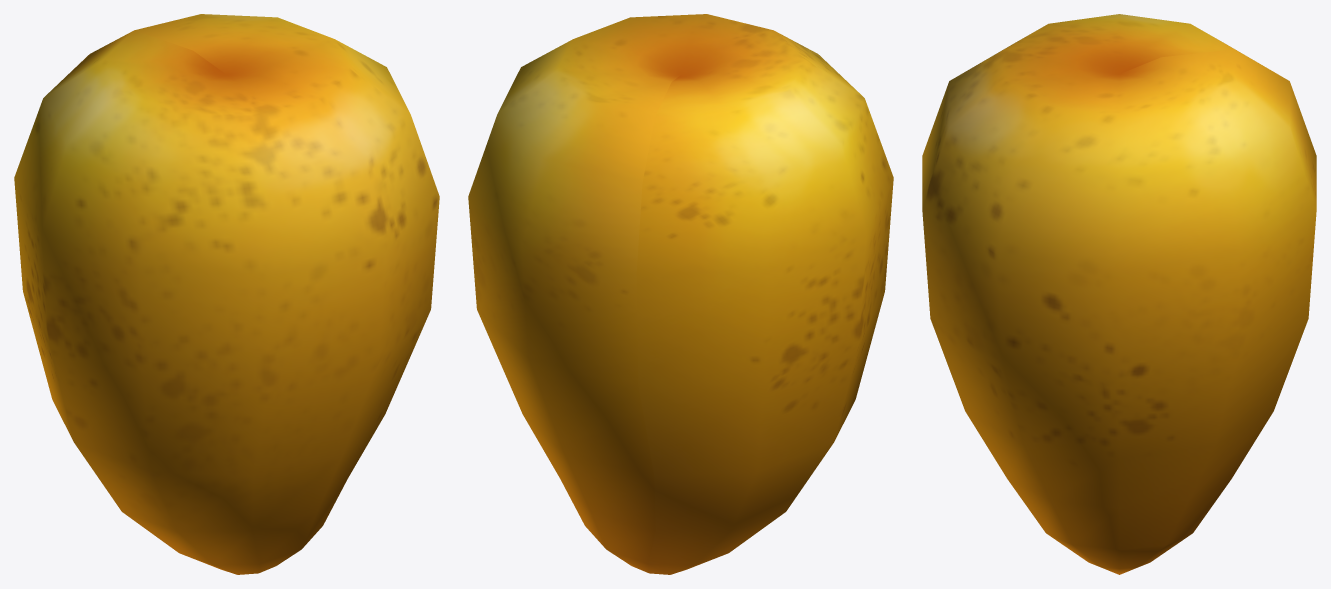
The model's file is Mango_Yellow.fbx.
3 views of the same model, side by side, from view 1: azimuth 30°, elevation 25°; view 2: azimuth 150°, elevation 25°; view 3: azimuth 270°, elevation 25° (orthographic). The views are drawn at different scales.
Parts seen in each view (by area): view 1: Mango_Yellow; view 2: Mango_Yellow; view 3: Mango_Yellow.
Part boxes in pixels (left/top/right/bottom): Mango_Yellow: left=14, top=14, right=439, bottom=574; Mango_Yellow: left=468, top=14, right=893, bottom=574; Mango_Yellow: left=922, top=14, right=1316, bottom=574.
Size of the model in its own units: 28.85 by 38.39 by 27.44.
